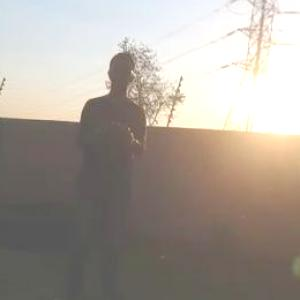follow: (50, 41, 152, 299)
